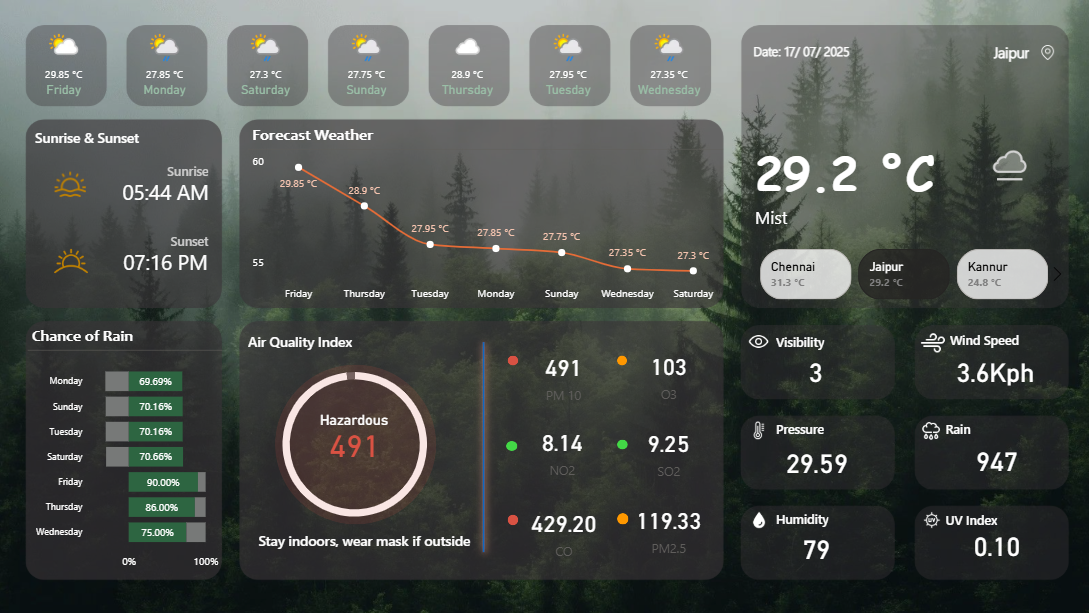

The dashboard page shown, as its layout file describes it:
{"tool":"powerbi","page":{"name":"Page 1","canvas":[1280,720],"ordinal":0},"visuals":[{"type":"donutChart","fields":{"Y":["Sum(Current.current.air_quality.pm10)","_Measures.Left_Value_PM10"]},"box":[304.2,408.3,224.5,221.2],"z":0},{"type":"shape","box":[322.1,426.2,188.7,187.1],"z":1000},{"type":"advancedSlicerVisual","fields":{"Values":["Location.location.name"]},"box":[865.3,286.3,388.7,69.9],"z":2000},{"type":"shape","box":[884.4,164.4,251.1,70],"z":3000},{"type":"shape","box":[884.4,236.7,353.3,34.4],"z":4000},{"type":"shape","box":[1049.1,43.9,156.1,34.2],"z":5000},{"type":"image","box":[1210.1,47.2,32.5,27.7],"z":6000},{"type":"shape","box":[883.2,43.9,135,32.5],"z":7000},{"type":"cardVisual","fields":{"Data":["Min(Current.current.condition.icon)"]},"box":[1136,144,90,94],"z":8000},{"type":"image","box":[868.9,381.1,40,36.7],"z":9000},{"type":"shape","box":[908.9,384.4,134.4,31.1],"z":10000},{"type":"image","box":[1070,486.7,40,35.6],"z":11000},{"type":"image","box":[868.9,487.8,40,31.1],"z":12000},{"type":"image","box":[1074.4,592.2,34.4,30],"z":13000},{"type":"image","box":[1072.2,380,40,40],"z":14000},{"type":"image","box":[874.4,592.2,30,30],"z":15000},{"type":"shape","box":[1112.2,383.3,125.6,30],"z":16000},{"type":"shape","box":[908.9,486.7,134.4,31.1],"z":17000},{"type":"shape","box":[1107.8,486.7,135.6,31.1],"z":18000},{"type":"shape","box":[908.9,591.1,134.4,31.1],"z":19000},{"type":"shape","box":[1107.8,592.2,134.4,30],"z":20000},{"type":"card","fields":{"Values":["Sum(Current.current.humidity)"]},"box":[927.8,620,54.4,43.3],"z":21000},{"type":"card","fields":{"Values":["Sum(Current.current.uv)"]},"box":[1122.2,616.7,87.8,42.2],"z":22000},{"type":"card","fields":{"Values":["Sum(Current.current.pressure_in)"]},"box":[908.9,518.9,94.4,42.2],"z":23000},{"type":"card","fields":{"Values":["Sum(Current.current.vis_km)"]},"box":[917.8,412.2,74.4,42.2],"z":24000},{"type":"card","fields":{"Values":["_Measures.Wind_Speed"]},"box":[1100,412.2,130,43.3],"z":25000},{"type":"card","fields":{"Values":["Sum(Forecast_day.forecast.forecastday.day.daily_chance_of_rain)"]},"box":[1118.9,515.6,94.4,43.3],"z":26000},{"type":"lineChart","title":"Forecast Weather","fields":{"Y":["Sum(Forecast_day.forecast.forecastday.day.avgtemp_c)"],"Category":["Forecast_day.Day_Name"]},"box":[291.2,144.8,556.3,214.7],"z":27000},{"type":"advancedSlicerVisual","fields":{"Values":["Forecast_day.Day_Name"]},"box":[16.3,27.7,831.2,97.6],"z":28000},{"type":"shape","box":[42.3,144.8,135,30.9],"z":29000},{"type":"shape","box":[111.8,190,132.7,68.2],"z":30000},{"type":"shape","box":[110.6,271.6,133.4,68.3],"z":31000},{"type":"shape","box":[136.4,184.5,108.2,30.9],"z":32000},{"type":"shape","box":[134.5,266.4,110,30],"z":33000},{"type":"image","box":[51.8,274.5,63.6,62.7],"z":34000},{"type":"image","box":[60,190.9,47.3,48.2],"z":35000},{"type":"hundredPercentStackedBarChart","title":"Chance of Rain","fields":{"Y":["Sum(Forecast_day.forecast.forecastday.day.daily_chance_of_rain)","Current.Left_value_Rain"],"Category":["Forecast_day.Day_Name"]},"box":[34,380,228,294],"z":36000},{"type":"shape","box":[291.2,383.9,135,29.3],"z":37000},{"type":"card","fields":{"Values":["Sum(Current.current.air_quality.pm10)"]},"box":[607.3,400,105.5,78.2],"z":38000},{"type":"shape","box":[594.5,600.9,12.7,12.7],"z":39000},{"type":"card","fields":{"Values":["Sum(Current.current.air_quality.o3)"]},"box":[729.1,398.2,106.4,78.2],"z":40000},{"type":"card","fields":{"Values":["Sum(Current.current.air_quality.so2)"]},"box":[729.1,489.1,106.4,77.3],"z":41000},{"type":"card","fields":{"Values":["Sum(Current.current.air_quality.no2)"]},"box":[605.5,488.2,106.4,78.2],"z":42000},{"type":"card","fields":{"Values":["Sum(Current.current.air_quality.co)"]},"box":[607.3,581.8,106.4,77.3],"z":43000},{"type":"card","fields":{"Values":["Sum(Current.current.air_quality.pm2_5)"]},"box":[729.1,578.2,106.4,78.2],"z":44000},{"type":"shape","box":[722.7,513.6,12.7,11.8],"z":45000},{"type":"shape","box":[594.5,415.5,12.7,11.8],"z":46000},{"type":"shape","box":[722.7,415.5,11.8,11.8],"z":47000},{"type":"shape","box":[592.7,515.5,13.6,11.8],"z":48000},{"type":"shape","box":[722.7,600,13.6,13.6],"z":49000},{"type":"shape","box":[544.9,392,42.3,263.5],"z":50000},{"type":"card","fields":{"Values":["Sum(Current.current.air_quality.pm10)"]},"box":[353,481.5,125.2,74.8],"z":51000},{"type":"shape","box":[304.3,602.9,274.3,55.7],"z":52000}]}

Visuals, with their boxes in screenshot pixels (x1, y1, x2, y2), scaled from the page's 1280x720 canvas onto the 1089x613 screenshot:
donutChart - Sum(Current.current.air_quality.pm10) x _Measures.Left_Value_PM10: (left=259, top=348, right=450, bottom=536)
shape: (left=274, top=363, right=435, bottom=522)
advancedSlicerVisual - Location.location.name: (left=736, top=244, right=1067, bottom=303)
shape: (left=752, top=140, right=966, bottom=200)
shape: (left=752, top=202, right=1053, bottom=231)
shape: (left=893, top=37, right=1025, bottom=66)
image: (left=1030, top=40, right=1057, bottom=64)
shape: (left=751, top=37, right=866, bottom=65)
cardVisual - Min(Current.current.condition.icon): (left=966, top=123, right=1043, bottom=203)
image: (left=739, top=324, right=773, bottom=356)
shape: (left=773, top=327, right=888, bottom=354)
image: (left=910, top=414, right=944, bottom=445)
image: (left=739, top=415, right=773, bottom=442)
image: (left=914, top=504, right=943, bottom=530)
image: (left=912, top=324, right=946, bottom=358)
image: (left=744, top=504, right=769, bottom=530)
shape: (left=946, top=326, right=1053, bottom=352)
shape: (left=773, top=414, right=888, bottom=441)
shape: (left=942, top=414, right=1058, bottom=441)
shape: (left=773, top=503, right=888, bottom=530)
shape: (left=942, top=504, right=1057, bottom=530)
card - Sum(Current.current.humidity): (left=789, top=528, right=836, bottom=565)
card - Sum(Current.current.uv): (left=955, top=525, right=1029, bottom=561)
card - Sum(Current.current.pressure_in): (left=773, top=442, right=854, bottom=478)
card - Sum(Current.current.vis_km): (left=781, top=351, right=844, bottom=387)
card - _Measures.Wind_Speed: (left=936, top=351, right=1046, bottom=388)
card - Sum(Forecast_day.forecast.forecastday.day.daily_chance_of_rain): (left=952, top=439, right=1032, bottom=476)
"Forecast Weather" lineChart: (left=248, top=123, right=721, bottom=306)
advancedSlicerVisual - Forecast_day.Day_Name: (left=14, top=24, right=721, bottom=107)
shape: (left=36, top=123, right=151, bottom=150)
shape: (left=95, top=162, right=208, bottom=220)
shape: (left=94, top=231, right=208, bottom=289)
shape: (left=116, top=157, right=208, bottom=183)
shape: (left=114, top=227, right=208, bottom=252)
image: (left=44, top=234, right=98, bottom=287)
image: (left=51, top=163, right=91, bottom=204)
"Chance of Rain" hundredPercentStackedBarChart: (left=29, top=324, right=223, bottom=574)
shape: (left=248, top=327, right=363, bottom=352)
card - Sum(Current.current.air_quality.pm10): (left=517, top=341, right=606, bottom=407)
shape: (left=506, top=512, right=517, bottom=522)
card - Sum(Current.current.air_quality.o3): (left=620, top=339, right=711, bottom=406)
card - Sum(Current.current.air_quality.so2): (left=620, top=416, right=711, bottom=482)
card - Sum(Current.current.air_quality.no2): (left=515, top=416, right=606, bottom=482)
card - Sum(Current.current.air_quality.co): (left=517, top=495, right=607, bottom=561)
card - Sum(Current.current.air_quality.pm2_5): (left=620, top=492, right=711, bottom=559)
shape: (left=615, top=437, right=626, bottom=447)
shape: (left=506, top=354, right=517, bottom=364)
shape: (left=615, top=354, right=625, bottom=364)
shape: (left=504, top=439, right=516, bottom=449)
shape: (left=615, top=511, right=626, bottom=522)
shape: (left=464, top=334, right=500, bottom=558)
card - Sum(Current.current.air_quality.pm10): (left=300, top=410, right=407, bottom=474)
shape: (left=259, top=513, right=492, bottom=561)
